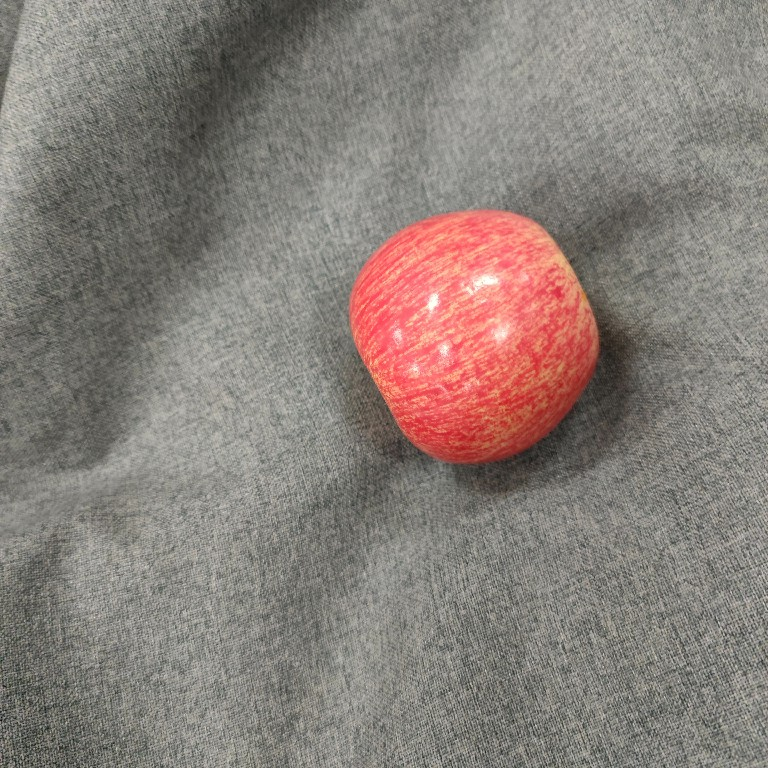fruit_apple: (343, 204, 605, 466)
